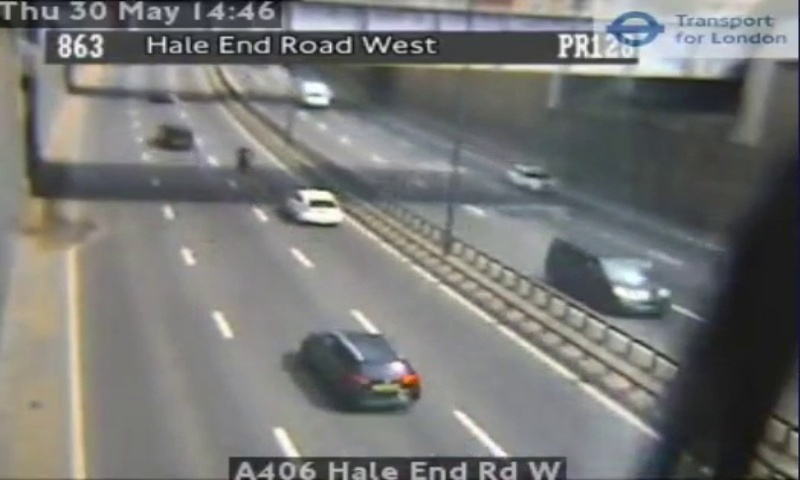car: (305, 330, 419, 407), (287, 189, 341, 222)
